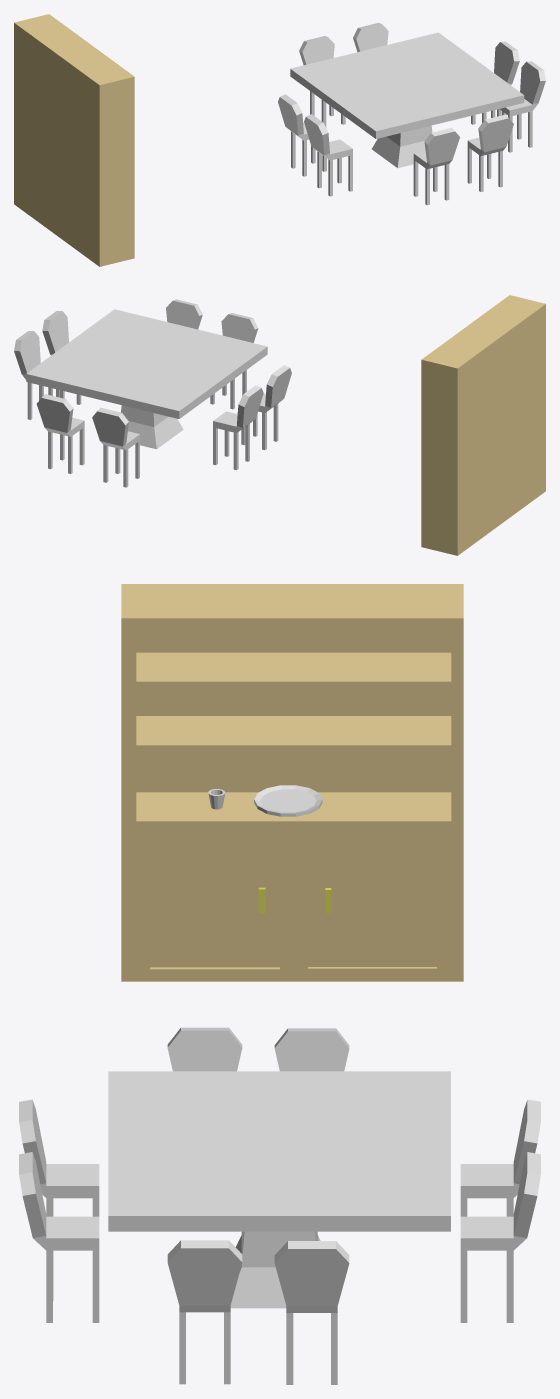
File: PropsComedor.fbx
3 renders of one model, top to bottom at view 1: azimuth 30°, elevation 25°; view 2: azimuth 150°, elevation 25°; view 3: azimuth 270°, elevation 25°, orthographic. The views are drawn at different scales.
Parts seen in each view (by area): view 1: Armario, MesaComedor, SillaComedor2, SillaComedor, SillaComedor7, SillaComedor5, SillaComedor8, SillaComedor4, SillaComedor6, SillaComedor3; view 2: Armario, MesaComedor, SillaComedor4, SillaComedor3, SillaComedor8, SillaComedor7, SillaComedor6, SillaComedor2, SillaComedor5, SillaComedor; view 3: Armario, MesaComedor, SillaComedor6, SillaComedor5, SillaComedor3, SillaComedor, SillaComedor2, SillaComedor4, SillaComedor7, SillaComedor8, Plato.
Boxes of the visible parts, bbox=[...] form: Armario: bbox=[14, 14, 134, 266]; MesaComedor: bbox=[290, 32, 524, 168]; SillaComedor2: bbox=[413, 128, 459, 205]; SillaComedor: bbox=[467, 114, 513, 191]; SillaComedor7: bbox=[304, 114, 352, 196]; SillaComedor5: bbox=[497, 61, 545, 152]; SillaComedor8: bbox=[278, 94, 326, 176]; SillaComedor4: bbox=[299, 36, 345, 127]; SillaComedor6: bbox=[471, 41, 519, 124]; SillaComedor3: bbox=[353, 23, 388, 52]; Armario: bbox=[421, 295, 545, 555]; MesaComedor: bbox=[26, 309, 267, 449]; SillaComedor4: bbox=[92, 407, 139, 487]; SillaComedor3: bbox=[36, 394, 84, 473]; SillaComedor8: bbox=[213, 385, 263, 470]; SillaComedor7: bbox=[241, 365, 291, 449]; SillaComedor6: bbox=[14, 331, 64, 419]; SillaComedor2: bbox=[210, 313, 258, 409]; SillaComedor5: bbox=[42, 311, 81, 404]; SillaComedor: bbox=[166, 299, 202, 329]; Armario: bbox=[121, 584, 463, 981]; MesaComedor: bbox=[108, 1071, 450, 1308]; SillaComedor6: bbox=[274, 1241, 349, 1384]; SillaComedor5: bbox=[167, 1240, 242, 1384]; SillaComedor3: bbox=[460, 1152, 540, 1322]; SillaComedor: bbox=[19, 1152, 99, 1322]; SillaComedor2: bbox=[19, 1099, 99, 1216]; SillaComedor4: bbox=[460, 1099, 540, 1216]; SillaComedor7: bbox=[167, 1027, 242, 1071]; SillaComedor8: bbox=[274, 1028, 349, 1071]; Plato: bbox=[254, 785, 322, 816].
Size of the model in its own units: 620 by 234 by 305.
